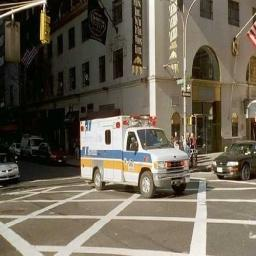ambulance: (80, 115, 189, 197)
